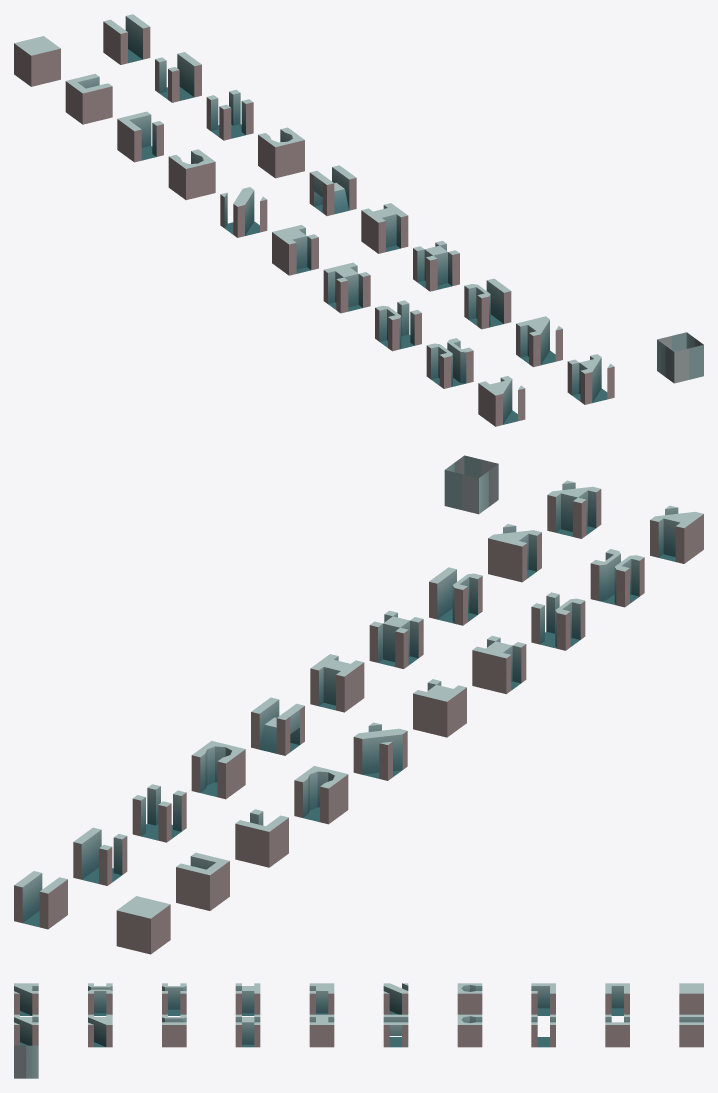
Rendered from QMazeModel.FBX.
3 renders of one model, top to bottom at view 1: azimuth 30°, elevation 25°; view 2: azimuth 150°, elevation 25°; view 3: azimuth 270°, elevation 25°, orthographic. The views are drawn at different scales.
Parts seen in each view (by area): view 1: QMazeGround, QMazePieceEmpty, QMazePieceDeadlock, QMazePieceDeadlockTriple, QMazePieceDeadlockLine, QMazePieceLineDeadlock, QMazePieceCorner, QMazePieceDeadlockCorner, QMazePieceLineDeadlockLine, QMazePieceLine, QMazePieceIntersection, QMazePieceStart (+9 smaller); view 2: QMazeGround, QMazePieceEmpty, QMazePieceStart, QMazePieceFinish, QMazePieceDeadlockLine, QMazePieceDeadlock, QMazePieceDoubleCorner, QMazePieceCornerDeadlockCorner, QMazePieceLineDeadlockLine, QMazePieceDeadlockTriple, QMazePieceDeadlockCrossing, QMazePieceCornerDeadlock1 (+9 smaller); view 3: QMazePieceDeadlockLine, QMazePieceFinish, QMazePieceIntersection, QMazePieceLine, QMazeGround, QMazePieceDeadlockCrossing, QMazePieceStart, QMazePieceDeadlockCorner, QMazePieceLineDeadlock, QMazePieceCornerDeadlock1, QMazePieceDeadlock, QMazePieceCorner (+9 smaller).
Boxes of the visible parts, x1,y1,x2,y2 form: QMazeGround: (657, 332, 703, 383); QMazePieceEmpty: (14, 36, 60, 86); QMazePieceDeadlock: (65, 73, 112, 124); QMazePieceDeadlockTriple: (323, 262, 370, 313); QMazePieceDeadlockLine: (361, 203, 408, 253); QMazePieceLineDeadlock: (464, 278, 511, 329); QMazePieceCorner: (117, 111, 163, 162); QMazePieceDeadlockCorner: (272, 225, 318, 275); QMazePieceLineDeadlockLine: (426, 338, 473, 388); QMazePieceLine: (103, 14, 150, 64); QMazePieceIntersection: (309, 165, 356, 215); QMazePieceStart: (168, 149, 215, 199); QMazeGround: (444, 455, 498, 514); QMazePieceEmpty: (116, 896, 170, 954); QMazePieceStart: (294, 766, 348, 824); QMazePieceFinish: (191, 740, 245, 799); QMazePieceDeadlockLine: (310, 654, 364, 712); QMazePieceDeadlock: (176, 852, 229, 910); QMazePieceDoubleCorner: (353, 722, 407, 780); QMazePieceCornerDeadlockCorner: (547, 480, 601, 538); QMazePieceLineDeadlockLine: (590, 549, 644, 607); QMazePieceDeadlockTriple: (472, 635, 526, 694); QMazePieceDeadlockCrossing: (369, 610, 423, 668); QMazePieceCornerDeadlock1: (488, 524, 541, 582); QMazePieceDeadlockLine: (309, 1014, 334, 1047); QMazePieceFinish: (457, 1014, 482, 1047); QMazePieceIntersection: (383, 1014, 408, 1047); QMazePieceLine: (679, 1014, 703, 1047); QMazeGround: (14, 1045, 38, 1078); QMazePieceDeadlockCrossing: (235, 1014, 260, 1047); QMazePieceStart: (457, 983, 482, 1014); QMazePieceDeadlockCorner: (309, 983, 334, 1014); QMazePieceLineDeadlock: (162, 1014, 186, 1047); QMazePieceCornerDeadlock1: (88, 1014, 112, 1047); QMazePieceDeadlock: (605, 983, 629, 1015); QMazePieceCorner: (531, 983, 555, 1015).
Size of the model in its own units: 700 by 101 by 2800.
